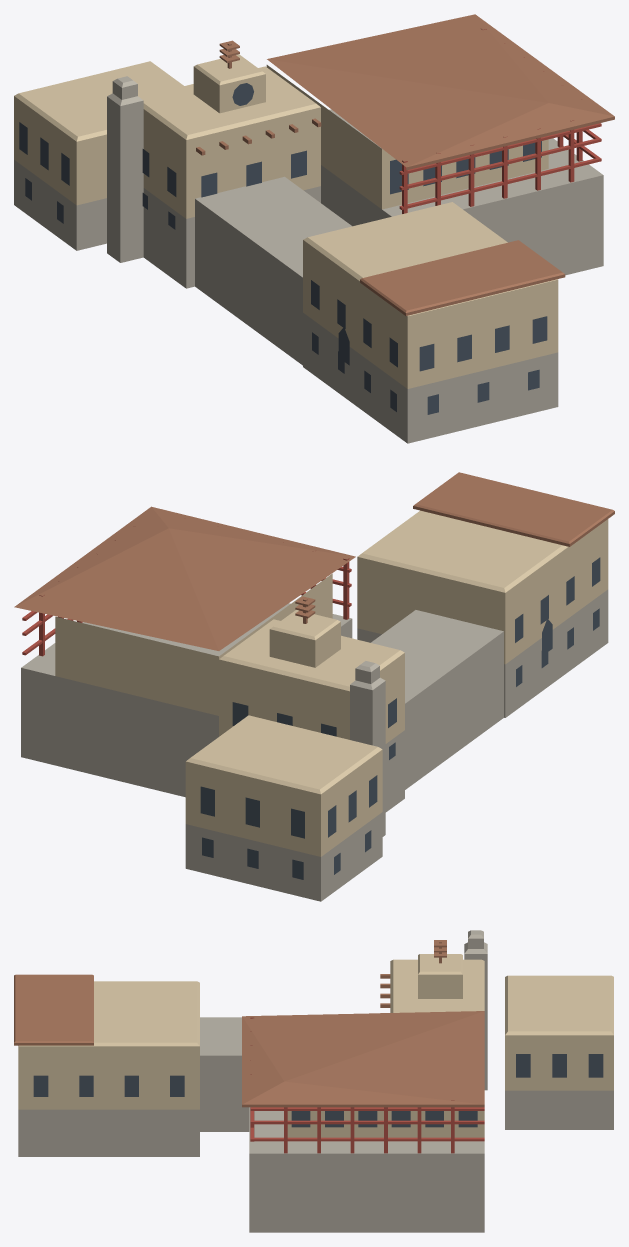
File: phx-mystery-castle.glb
3 views of the same model, one above another, from view 1: azimuth 30°, elevation 25°; view 2: azimuth 150°, elevation 25°; view 3: azimuth 270°, elevation 25° (orthographic). The views are drawn at different scales.
Visible parts, largest first — view 1: Mystery Castle; view 2: Mystery Castle; view 3: Mystery Castle.
Part boxes in pixels (box(x1,y1,x2,y2)): Mystery Castle: box(14, 14, 614, 443); Mystery Castle: box(14, 472, 614, 901); Mystery Castle: box(14, 930, 613, 1232).
Bounding box in the file's own units: 26.76 × 13.6 × 41.36.
